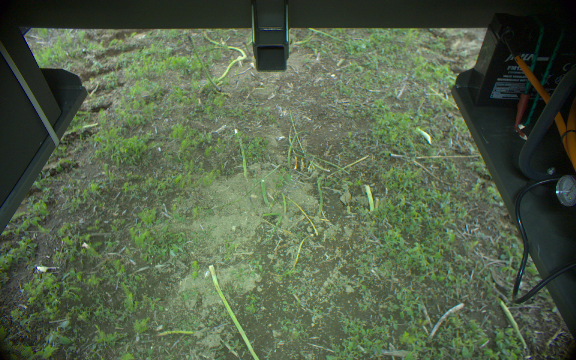aspa: (186, 36, 220, 92), (286, 129, 309, 169), (234, 130, 249, 184), (314, 176, 329, 218)
